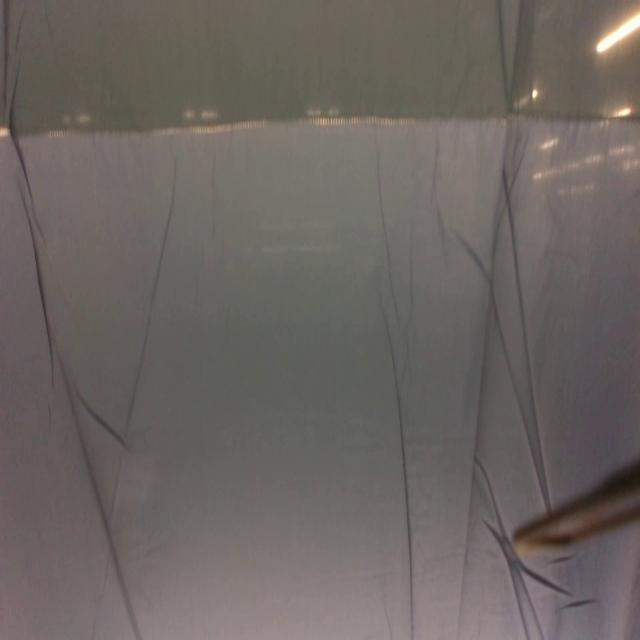crease: (2, 0, 176, 640), (428, 0, 555, 509), (372, 122, 416, 640), (509, 559, 600, 639)
